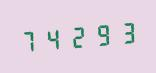four: (42, 23, 65, 54)
nine: (90, 18, 113, 49)
seven: (18, 25, 41, 56)
three: (114, 16, 137, 47)
two: (66, 21, 89, 51)
